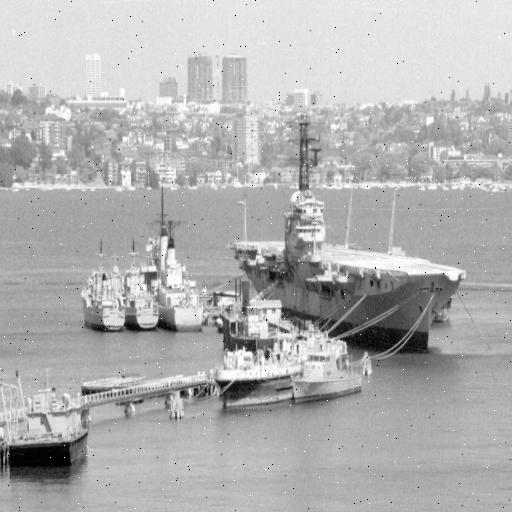Portanaves: (224, 108, 468, 359)
